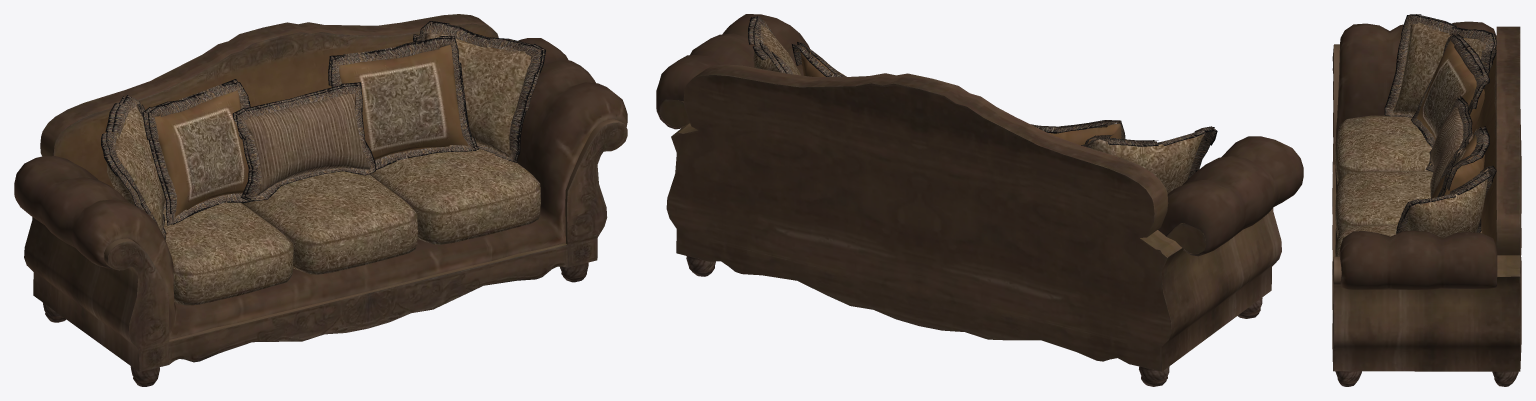
Rendered from sofa_03.glb.
3 renders of one model, left to right at view 1: azimuth 30°, elevation 25°; view 2: azimuth 150°, elevation 25°; view 3: azimuth 270°, elevation 25°, orthographic. The views are drawn at different scales.
Visible parts, largest first — view 1: sofa_03; view 2: sofa_03; view 3: sofa_03.
Part boxes in pixels (left/top/right/bottom): sofa_03: left=14, top=14, right=627, bottom=386; sofa_03: left=656, top=14, right=1303, bottom=386; sofa_03: left=1332, top=14, right=1521, bottom=386.
Size of the model in its own units: 2.73 by 1.12 by 0.9251.
Materials: 2 (2 with a texture image).
